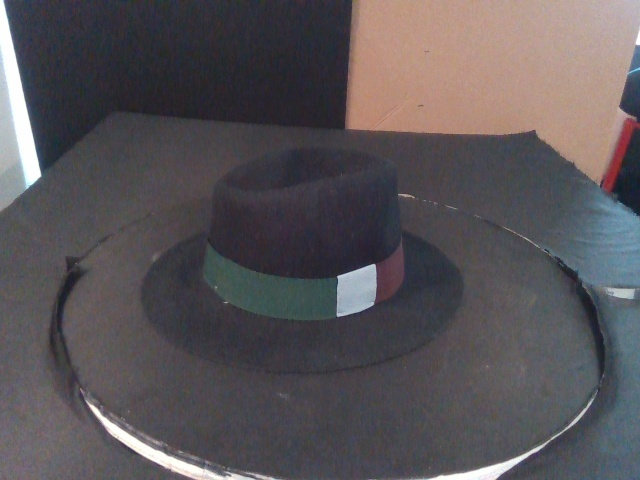hat: (142, 148, 465, 369)
